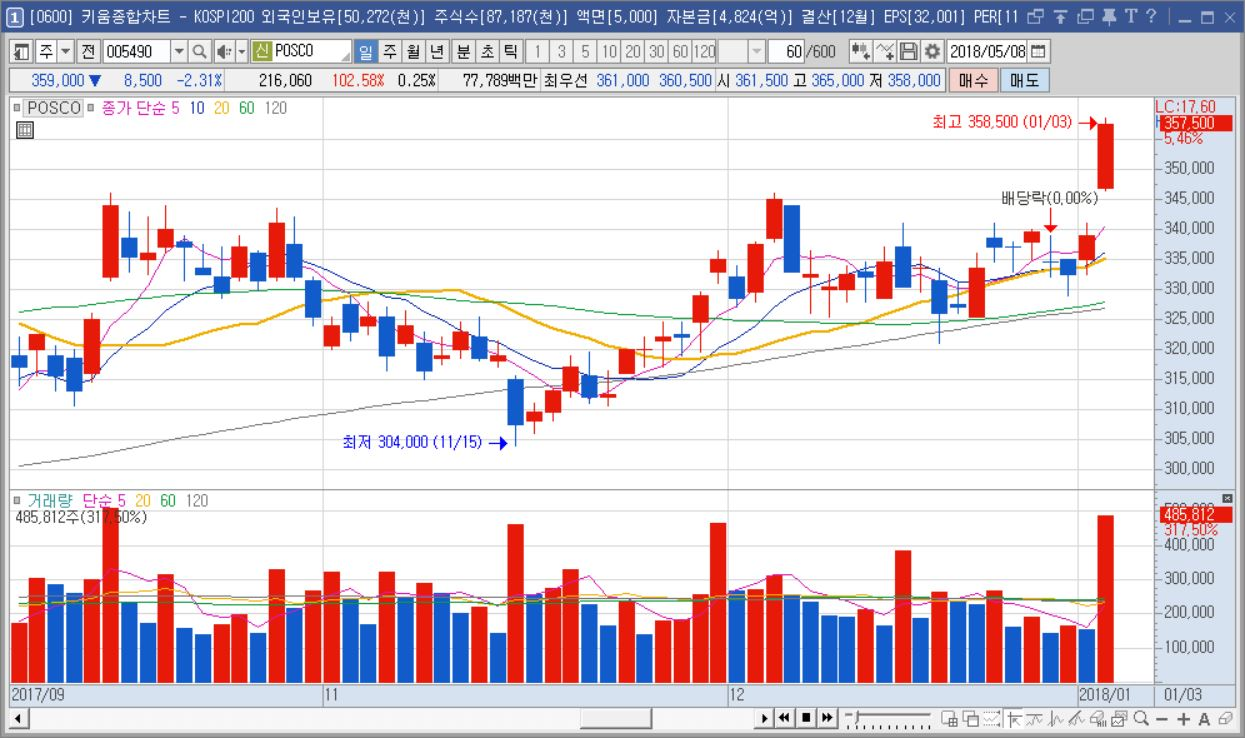up: (507, 111, 1115, 680)
